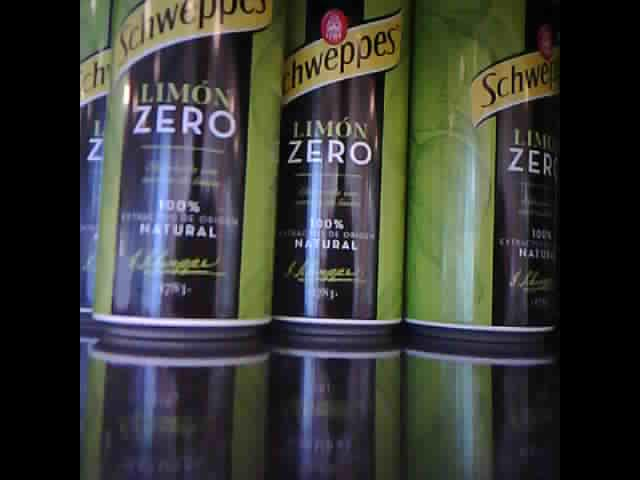schweppes: (93, 2, 284, 343), (405, 2, 559, 335), (273, 1, 412, 335), (77, 1, 111, 322)
